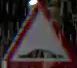Speed Breaker ahead: (3, 3, 76, 67)
